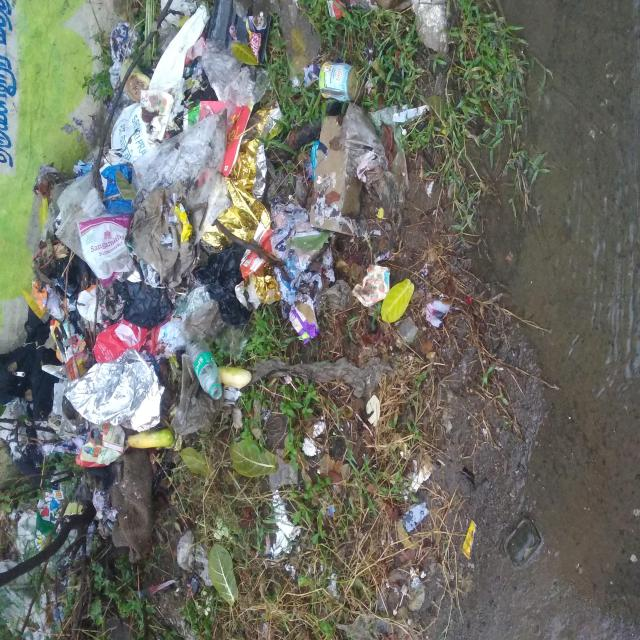bottle: (182, 339, 224, 402)
